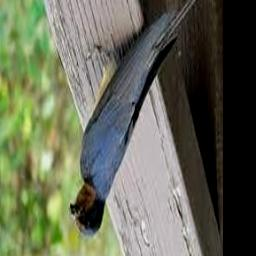Swallow: (70, 0, 206, 240)
